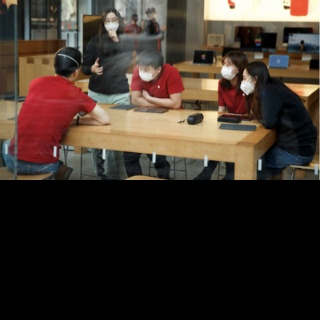with_mask: (240, 74, 254, 96), (138, 65, 156, 81), (220, 61, 236, 79), (104, 16, 119, 31)
